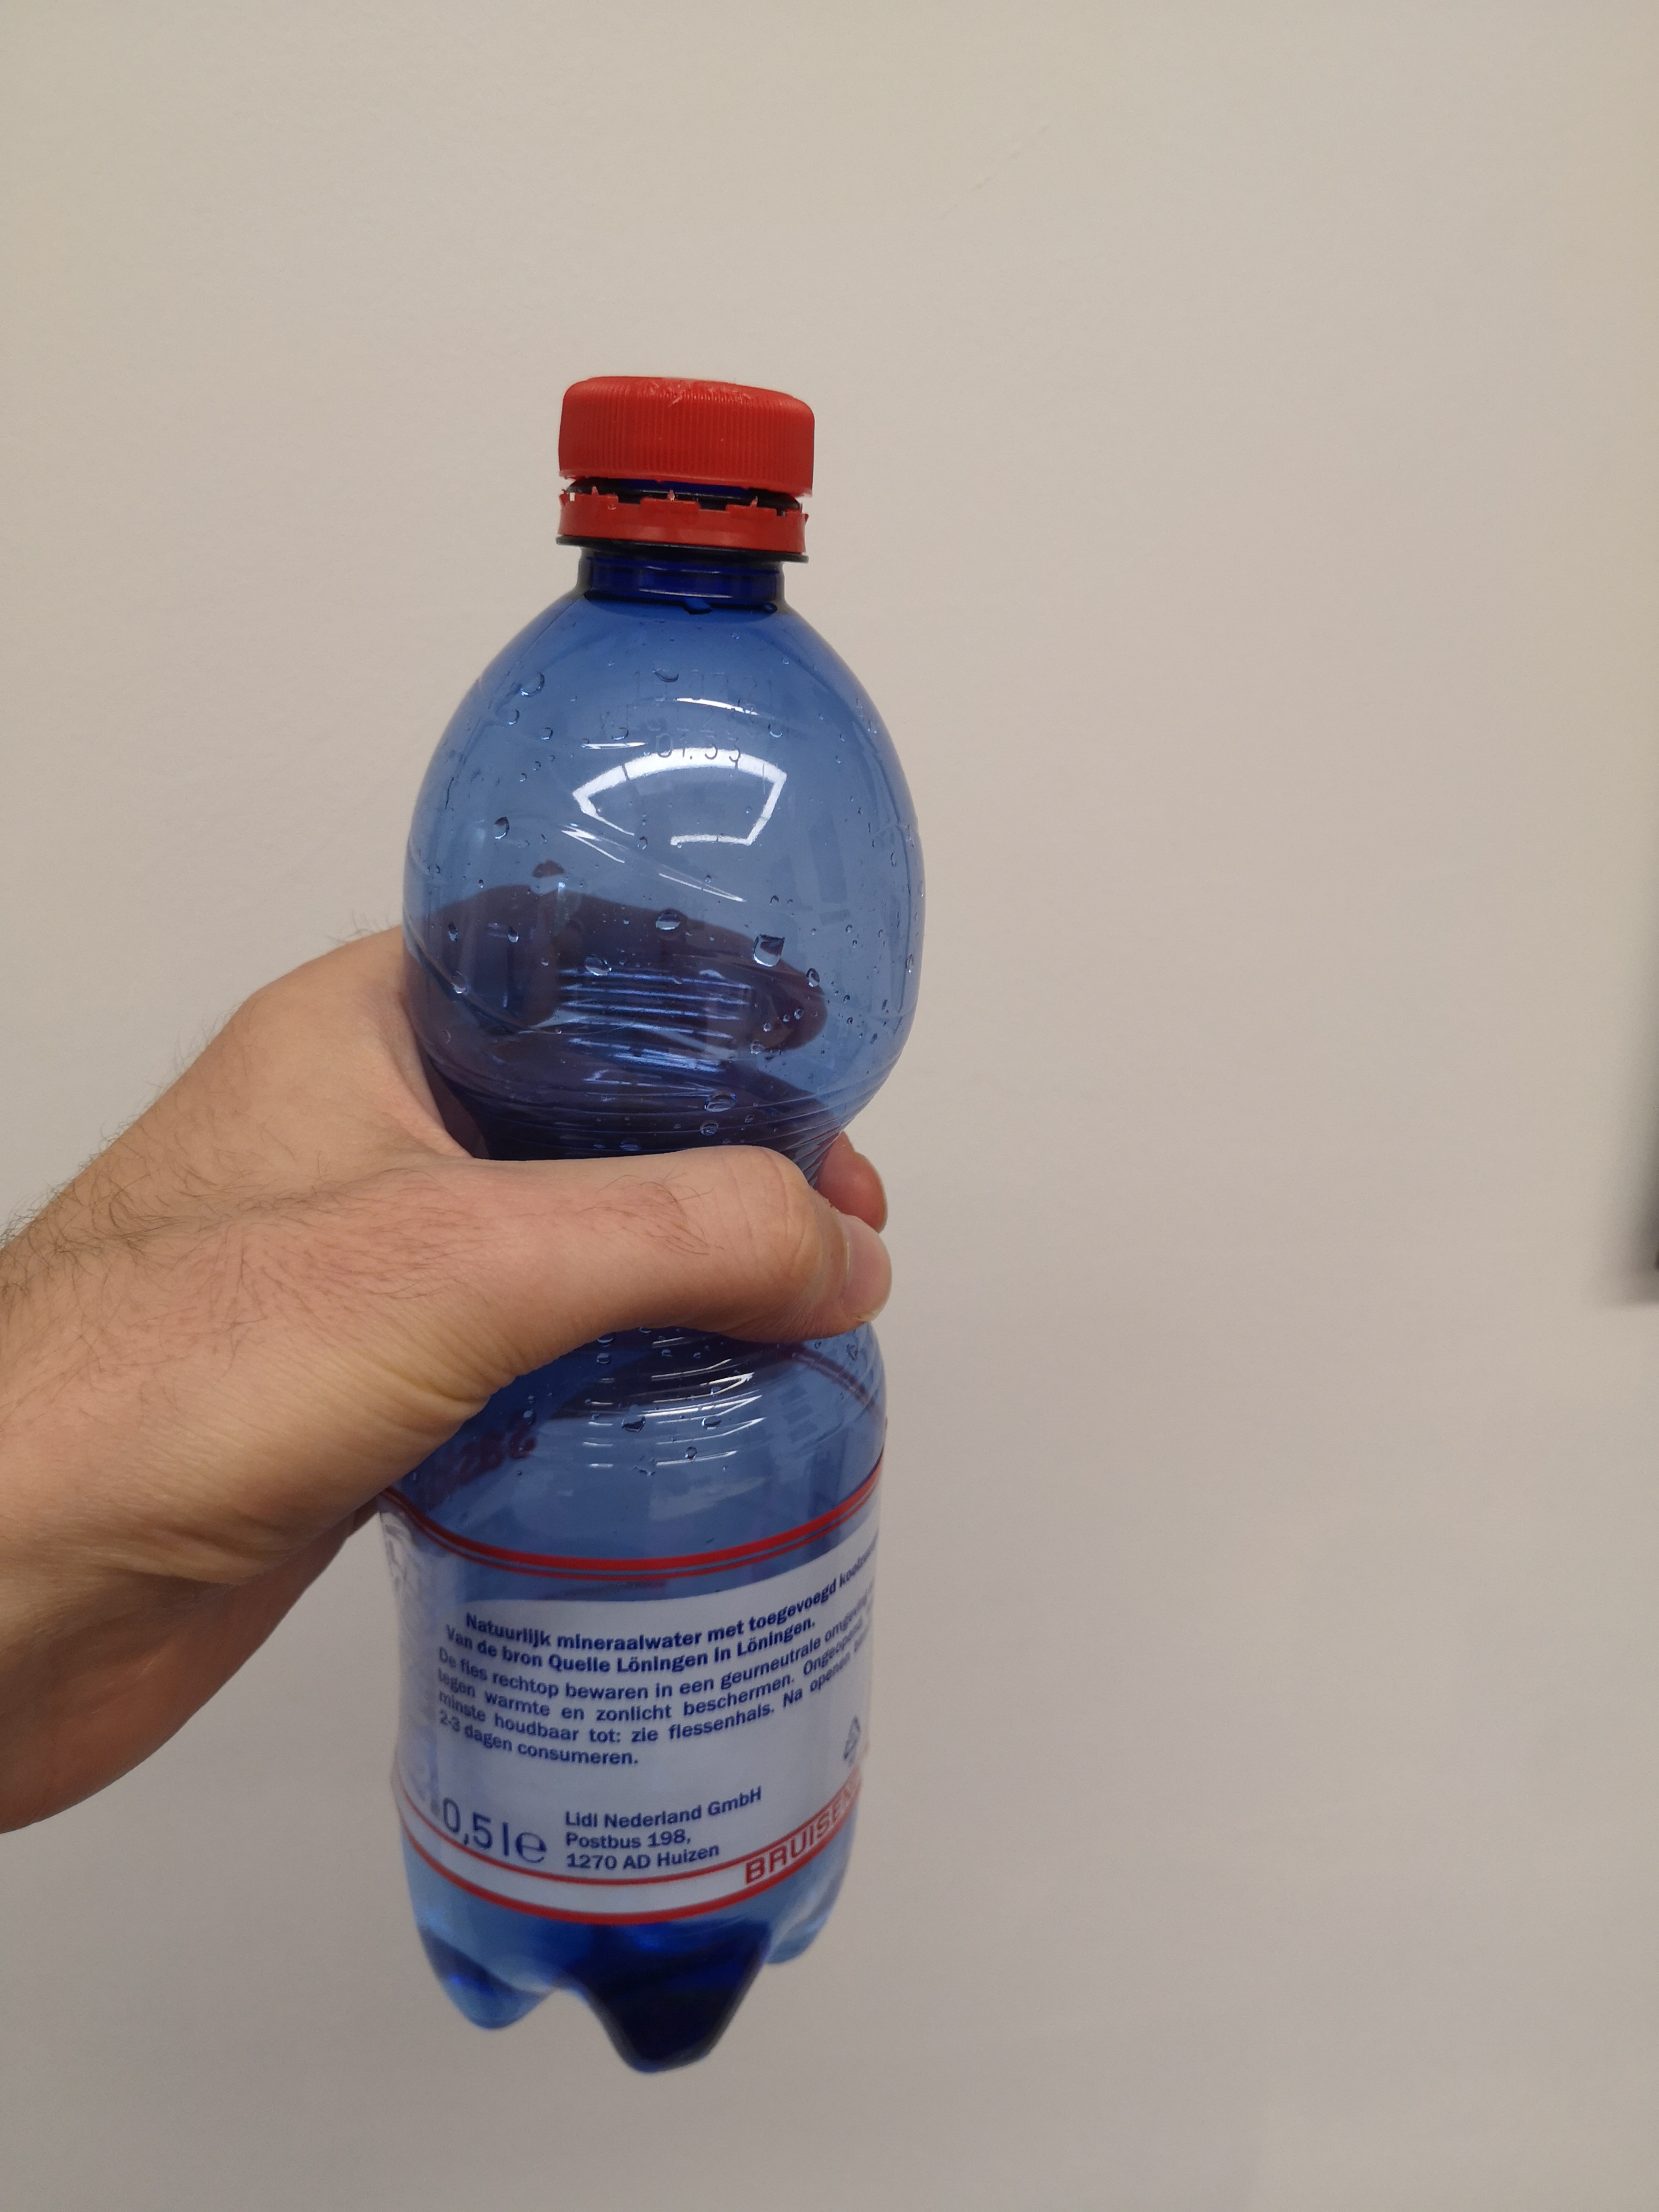plastic_bottle: (380, 354, 939, 2085)
